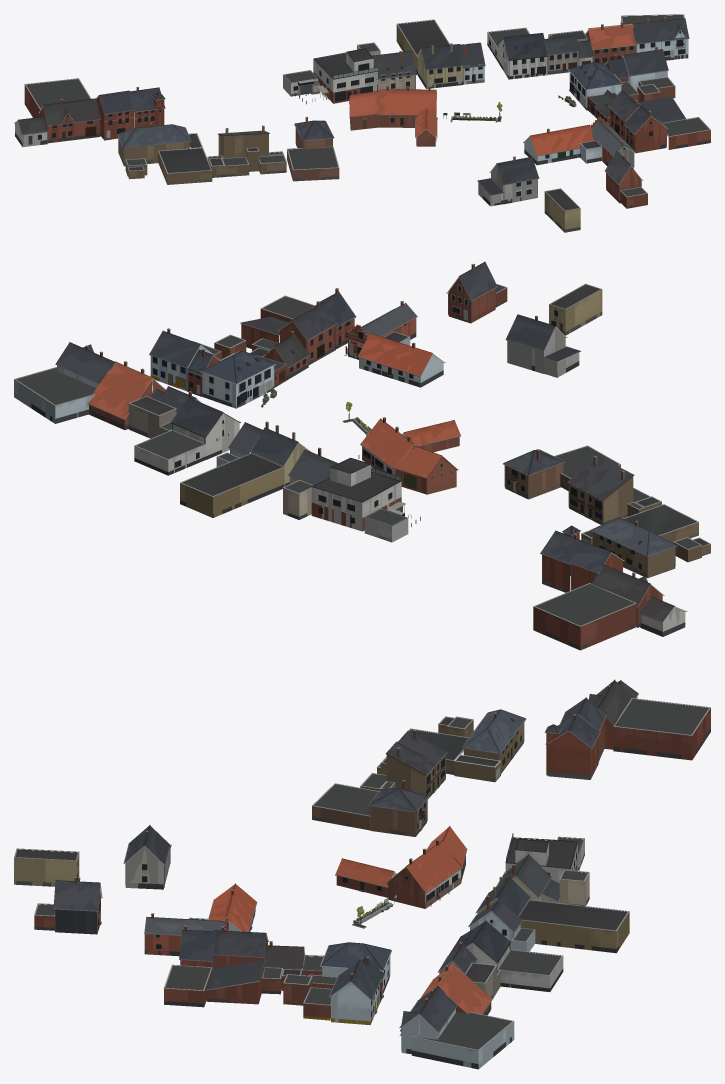
File: town.glb
The picture shows the model from 3 angles, top to bottom: view 1: azimuth 30°, elevation 25°; view 2: azimuth 150°, elevation 25°; view 3: azimuth 270°, elevation 25°; orthographic projection. The views are drawn at different scales.
Parts seen in each view (by area): view 1: far_roof, near_roof, far_render, near_render, far_brick, near_brick, near_trim; view 2: far_render, far_roof, near_render, near_brick, near_roof, far_brick, near_trim; view 3: far_roof, near_brick, far_render, far_brick, near_roof, near_render, near_trim.
Boxes of the visible parts, x1=… form: far_roof: x1=19, y1=18, x2=687, y2=194; near_roof: x1=18, y1=19, x2=689, y2=195; far_render: x1=17, y1=15, x2=708, y2=206; near_render: x1=15, y1=16, x2=709, y2=232; far_brick: x1=24, y1=18, x2=710, y2=231; near_brick: x1=25, y1=17, x2=710, y2=229; near_trim: x1=14, y1=14, x2=710, y2=211; far_render: x1=16, y1=285, x2=699, y2=631; far_roof: x1=56, y1=262, x2=676, y2=621; near_render: x1=31, y1=263, x2=710, y2=650; near_brick: x1=14, y1=265, x2=710, y2=646; near_roof: x1=56, y1=262, x2=673, y2=621; far_brick: x1=14, y1=265, x2=707, y2=650; near_trim: x1=14, y1=261, x2=710, y2=634; far_roof: x1=54, y1=680, x2=638, y2=1031; near_brick: x1=14, y1=686, x2=710, y2=1064; far_render: x1=35, y1=699, x2=708, y2=1049; far_brick: x1=14, y1=686, x2=706, y2=1068; near_roof: x1=53, y1=681, x2=637, y2=1031; near_render: x1=15, y1=685, x2=710, y2=1069; near_trim: x1=14, y1=679, x2=710, y2=1050.
Size of the model in its own units: 188 by 15.32 by 149.
